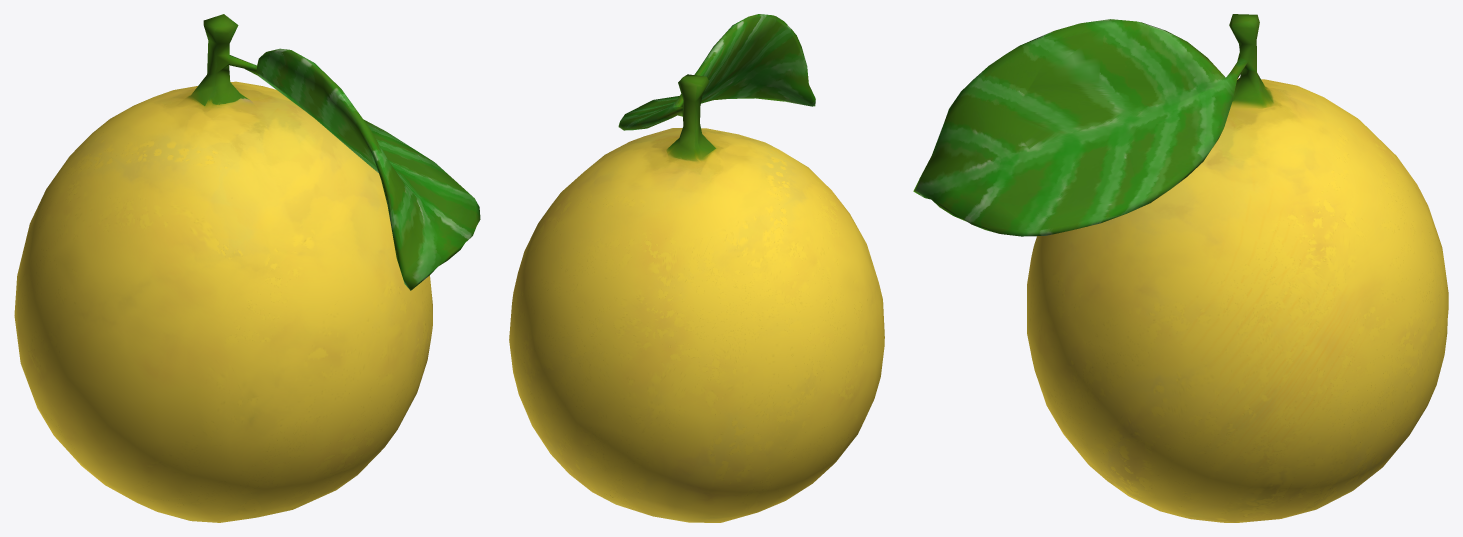
Rendered from lemonWithLeaf.fbx.
3 renders of one model, left to right at view 1: azimuth 30°, elevation 25°; view 2: azimuth 150°, elevation 25°; view 3: azimuth 270°, elevation 25°, orthographic. The views are drawn at different scales.
Visible parts, largest first — view 1: lemonWithLeaf; view 2: lemonWithLeaf; view 3: lemonWithLeaf.
Boxes of the visible parts, x1,y1,x2,y2 form: lemonWithLeaf: (14,14,480,522); lemonWithLeaf: (509,14,884,522); lemonWithLeaf: (913,14,1448,522).
Bounding box in the file's own units: 5.21 × 6.66 × 6.59.
